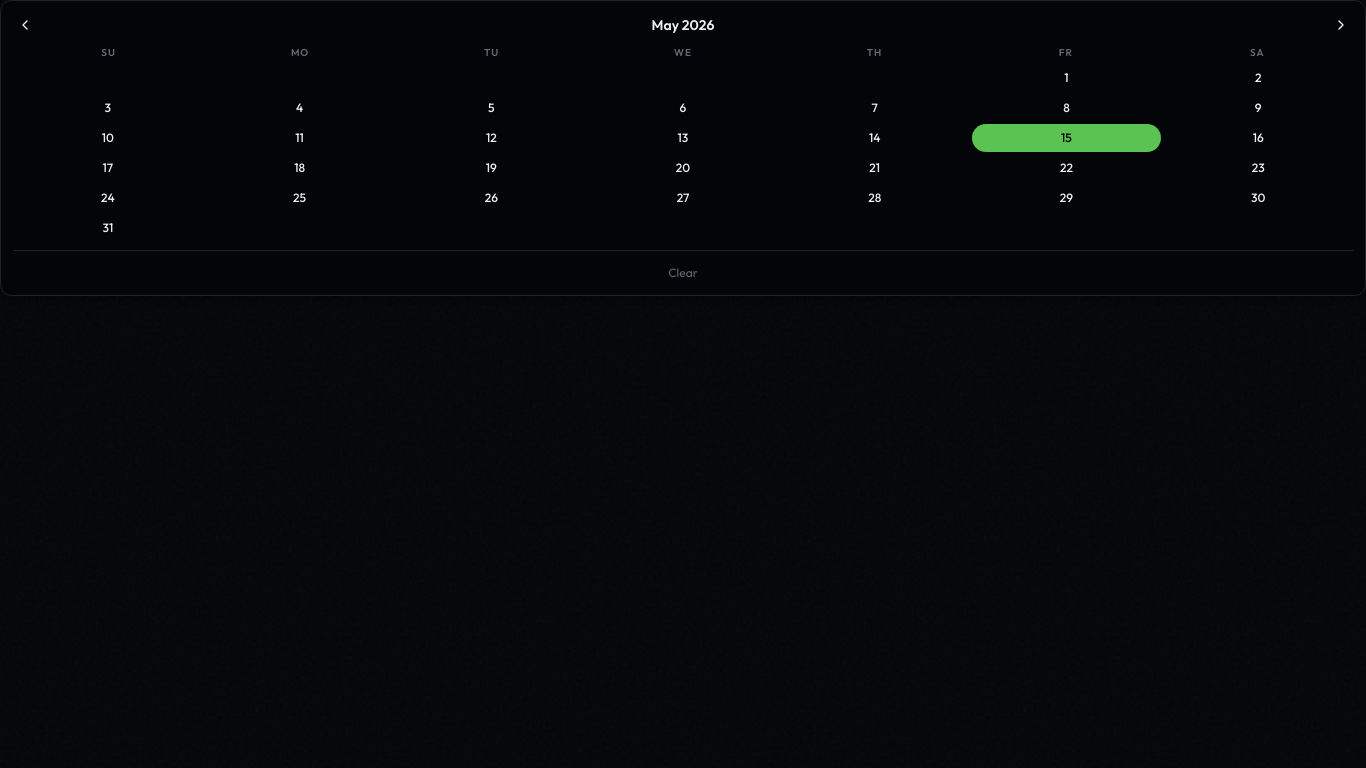
DatePickerMini › previous month button navigates back
The width and height of the screenshot is (1366, 768).
Click the button named "Previous month": (25, 25) [13,13,37,37]
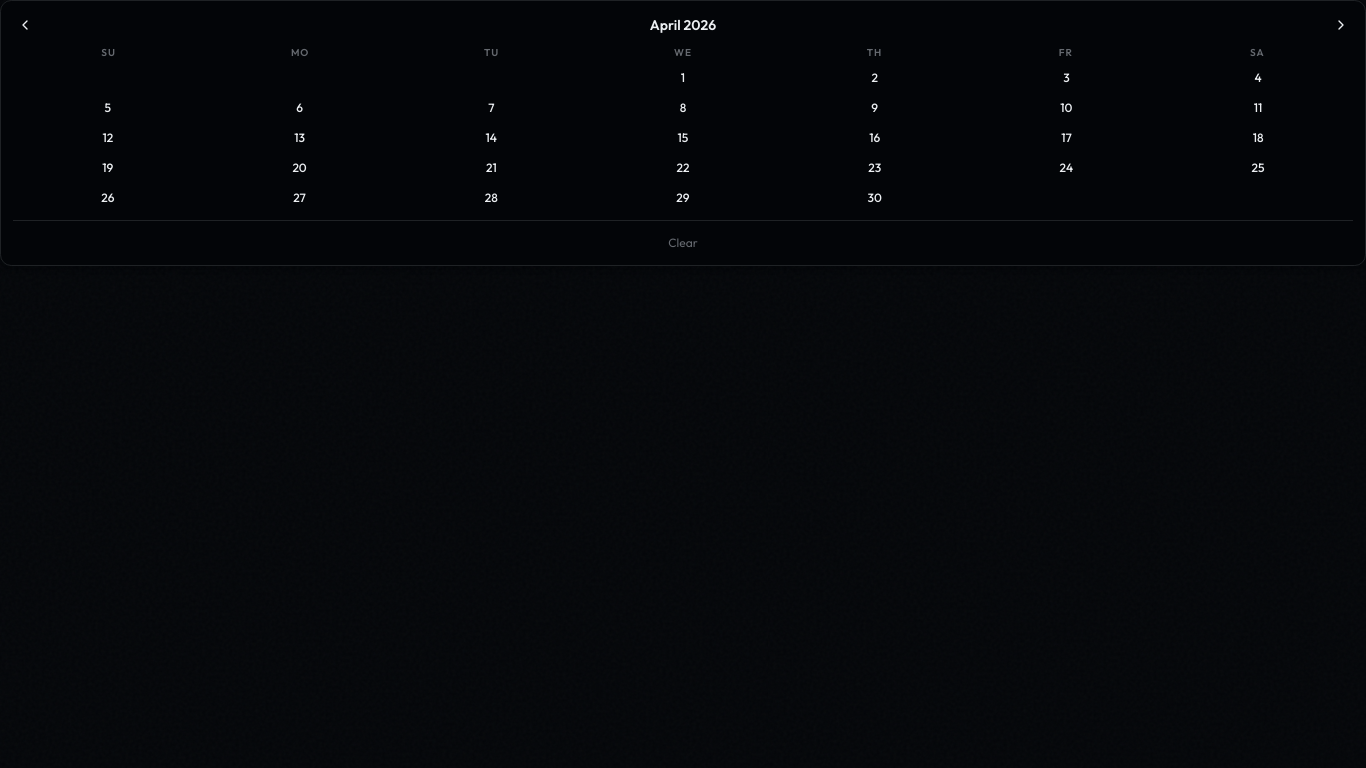
Now the button "April 2026" is shown, box [650,15,716,35]
